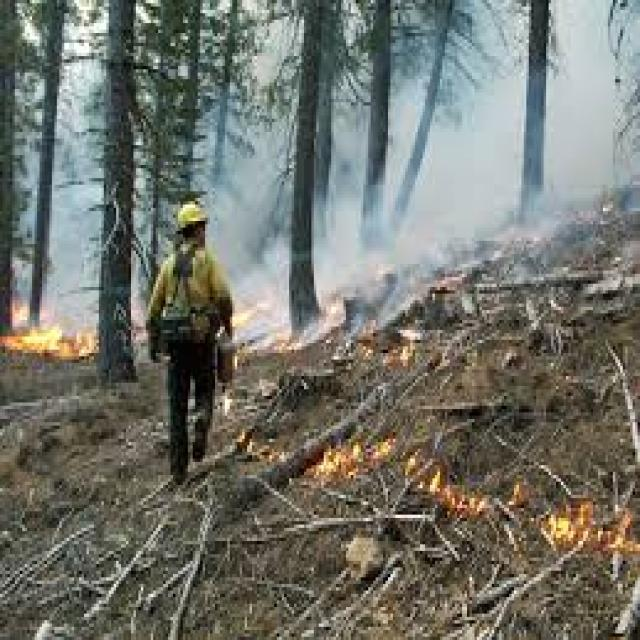Fire: (541, 498, 635, 554), (311, 435, 398, 485), (422, 468, 502, 522), (0, 326, 99, 363), (506, 478, 538, 515)
Smoke: (254, 0, 640, 244), (238, 250, 442, 350), (52, 102, 100, 321)
